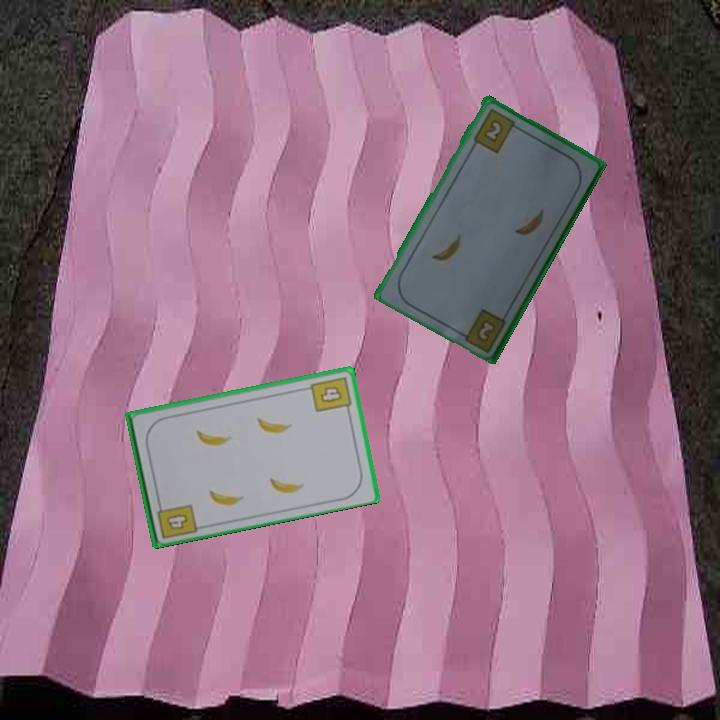2b: (470, 104, 522, 156), (475, 316, 499, 342)
4b: (153, 497, 199, 541), (307, 373, 354, 415)
